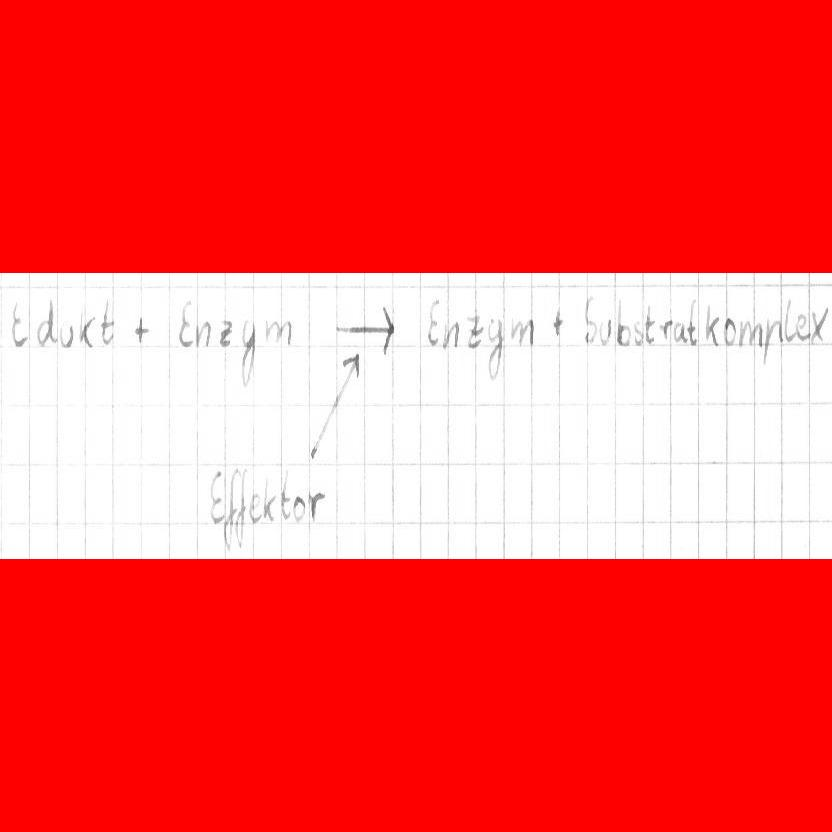Char: (236, 317, 258, 390), (222, 467, 238, 551), (485, 316, 504, 381), (34, 297, 57, 348), (262, 316, 296, 348), (9, 298, 30, 349), (760, 318, 783, 364), (510, 315, 539, 350), (235, 468, 247, 551), (582, 294, 599, 349), (98, 298, 117, 345), (808, 305, 829, 346), (210, 470, 225, 526), (425, 296, 441, 348), (703, 302, 721, 347), (616, 296, 631, 349), (737, 319, 764, 348), (465, 312, 484, 352), (178, 298, 193, 348), (78, 309, 96, 349), (305, 490, 326, 522), (643, 302, 658, 346), (262, 477, 276, 522), (441, 318, 461, 349), (279, 469, 291, 520), (783, 297, 795, 345), (194, 321, 211, 350), (548, 308, 565, 337), (247, 493, 262, 525), (134, 314, 152, 340), (218, 318, 233, 349), (794, 311, 809, 342), (721, 317, 736, 347), (292, 494, 306, 524), (672, 318, 688, 344), (598, 317, 611, 348), (59, 323, 75, 348), (690, 299, 698, 347), (660, 317, 673, 342), (632, 319, 643, 347)
